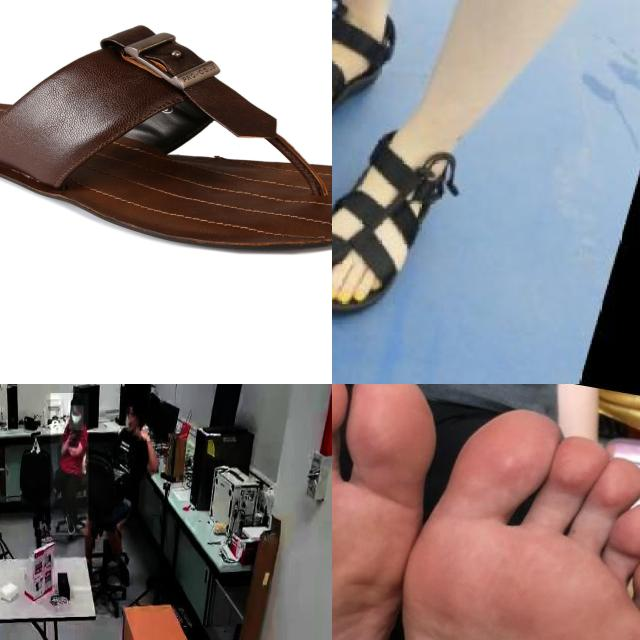Barefoots: (405, 390, 640, 640), (332, 384, 449, 640)
Sandals: (0, 23, 332, 251), (332, 125, 461, 317), (332, 0, 397, 146)
face_mask: (69, 406, 83, 430)
hand_noglove: (136, 427, 150, 442), (67, 428, 77, 441)
head_nohelmet: (127, 393, 145, 408), (70, 391, 84, 405)
person: (104, 393, 156, 590), (51, 393, 89, 536)
